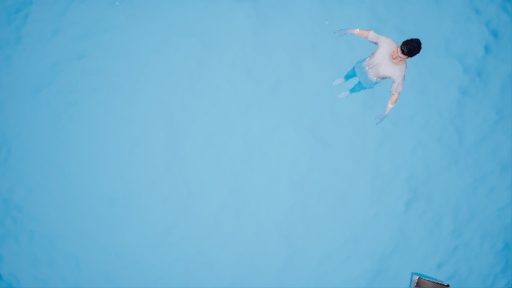person: (334, 23, 420, 131)
